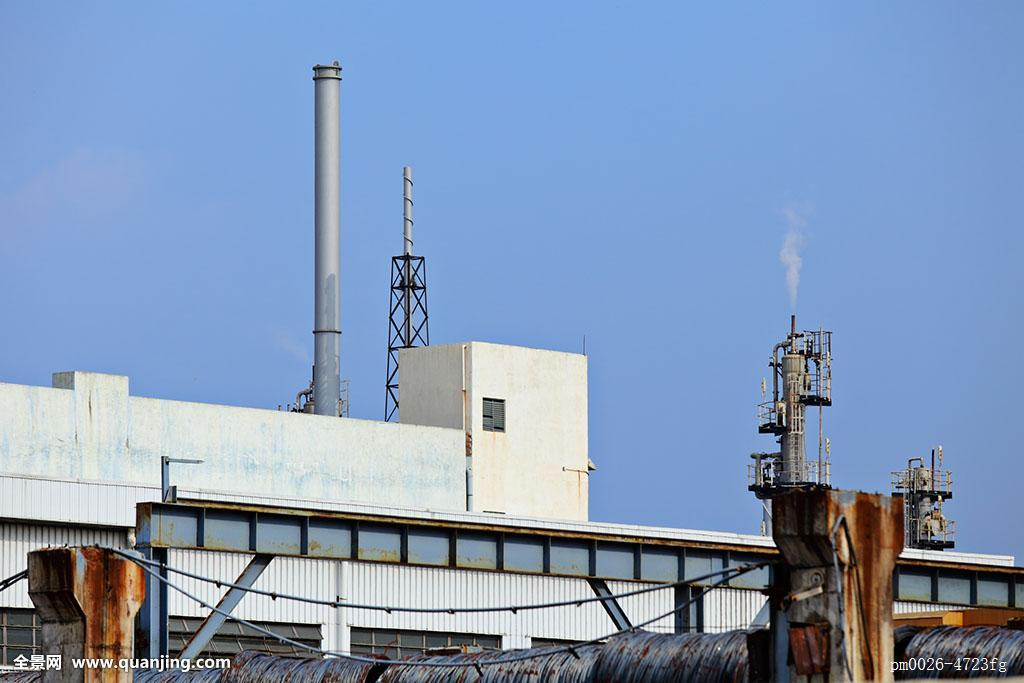dust: (764, 227, 818, 324)
